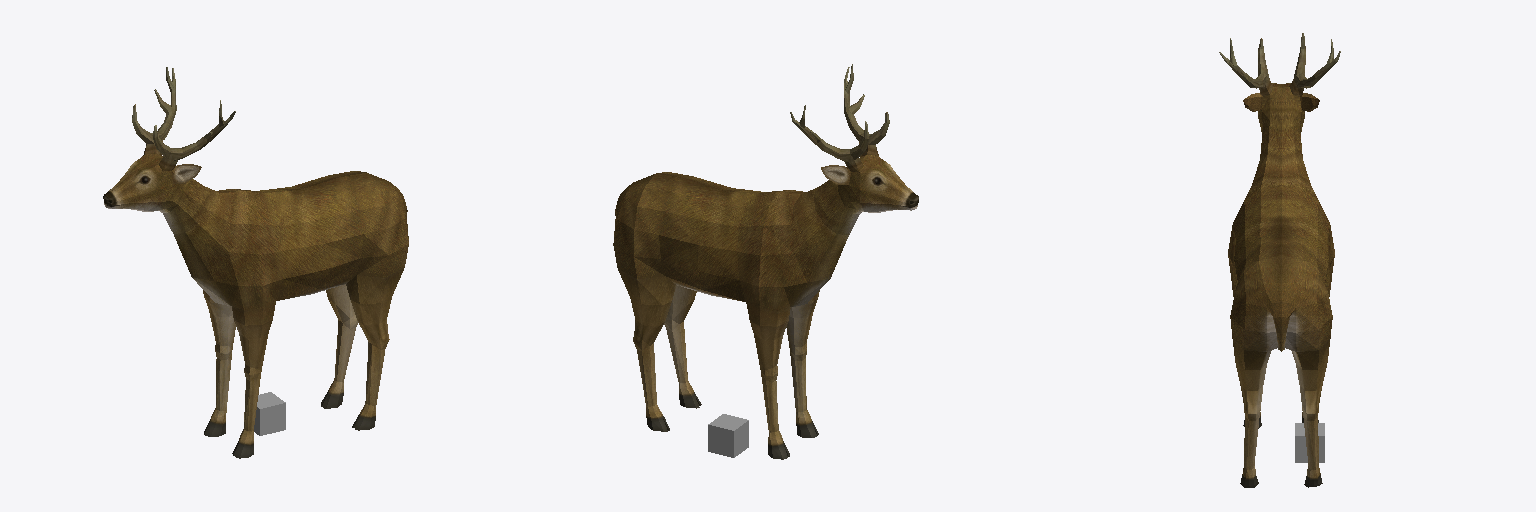
The picture shows the model from 3 angles: view 1: azimuth 30°, elevation 25°; view 2: azimuth 150°, elevation 25°; view 3: azimuth 270°, elevation 25°; orthographic projection.
Parts seen in each view (by area): view 1: Mesh_deer___UN, Cube; view 2: Mesh_deer___UN, Cube; view 3: Mesh_deer___UN, Cube.
Boxes of the visible parts, <box> form: Mesh_deer___UN: <box>103,67,408,458</box>; Cube: <box>254,392,285,435</box>; Mesh_deer___UN: <box>613,64,918,459</box>; Cube: <box>708,414,748,457</box>; Mesh_deer___UN: <box>1219,33,1340,487</box>; Cube: <box>1295,423,1324,462</box>.
Bounding box in the file's own units: 23.25 × 27.75 × 8.13.
2 materials, 1 textured.